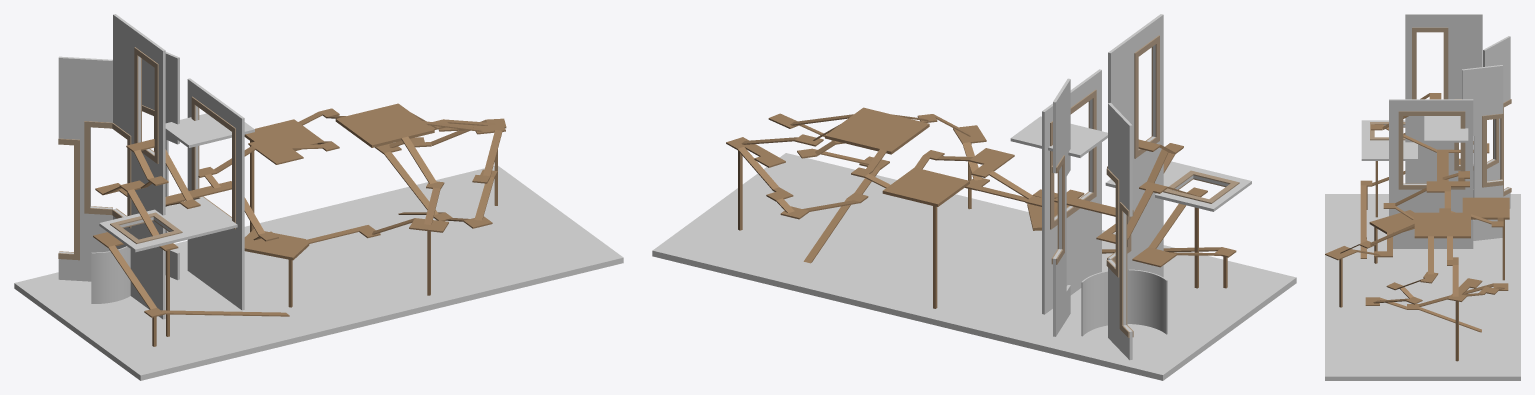
3 renders of one model, left to right at view 1: azimuth 30°, elevation 25°; view 2: azimuth 150°, elevation 25°; view 3: azimuth 270°, elevation 25°, orthographic. The views are drawn at different scales.
Visible parts, largest first — view 1: dizuo, 对象004, lujing; view 2: dizuo, 对象004, lujing; view 3: dizuo, 对象004, lujing.
Part boxes in pixels (<box>): dizuo: <box>14,166,623,380</box>; 对象004: <box>58,14,254,319</box>; lujing: <box>93,103,506,346</box>; dizuo: <box>652,153,1296,380</box>; 对象004: <box>1010,14,1251,360</box>; lujing: <box>726,107,1236,308</box>; dizuo: <box>1325,194,1520,380</box>; 对象004: <box>1361,14,1511,248</box>; lujing: <box>1325,93,1509,361</box>.
Bounding box in the file's own units: 9.23 × 5 × 4.18.
